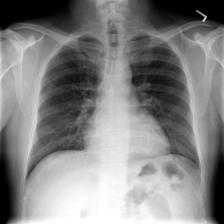normal: (20, 28, 206, 189)
